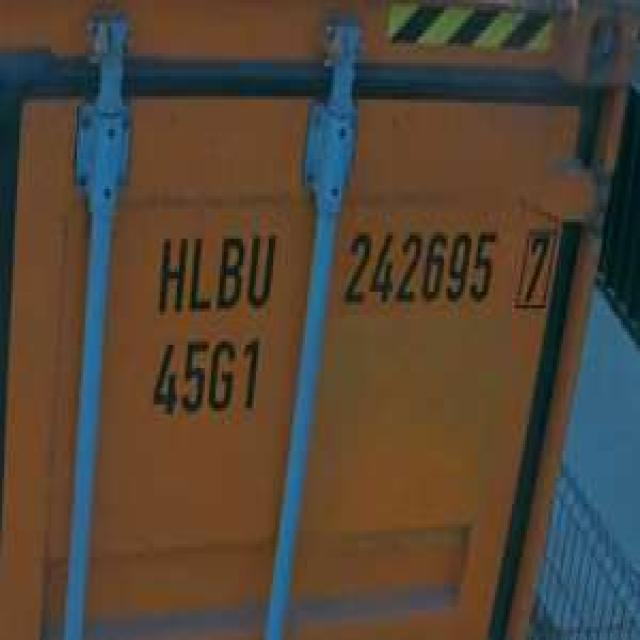dv: (512, 219, 559, 318)
owner: (150, 219, 280, 318)
serial: (337, 216, 499, 312)
size: (145, 328, 267, 424)
